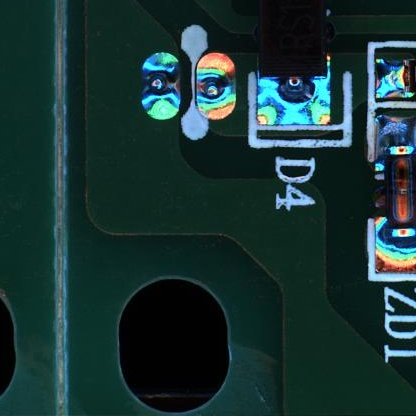spot: (194, 50, 238, 120), (142, 51, 181, 123)
